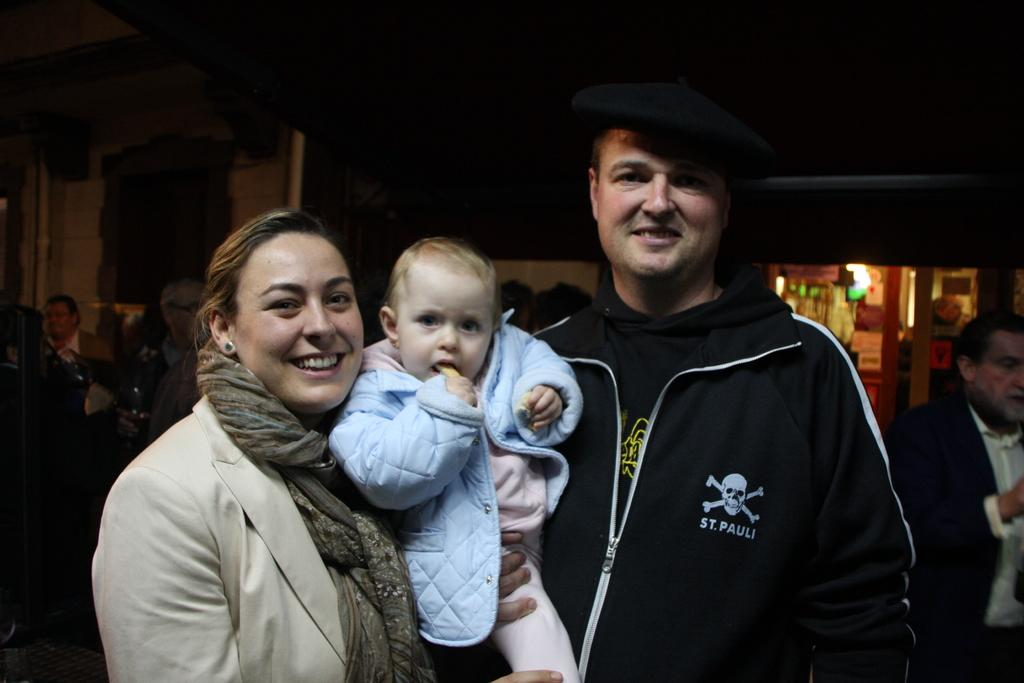Hat: (572, 84, 758, 160)
